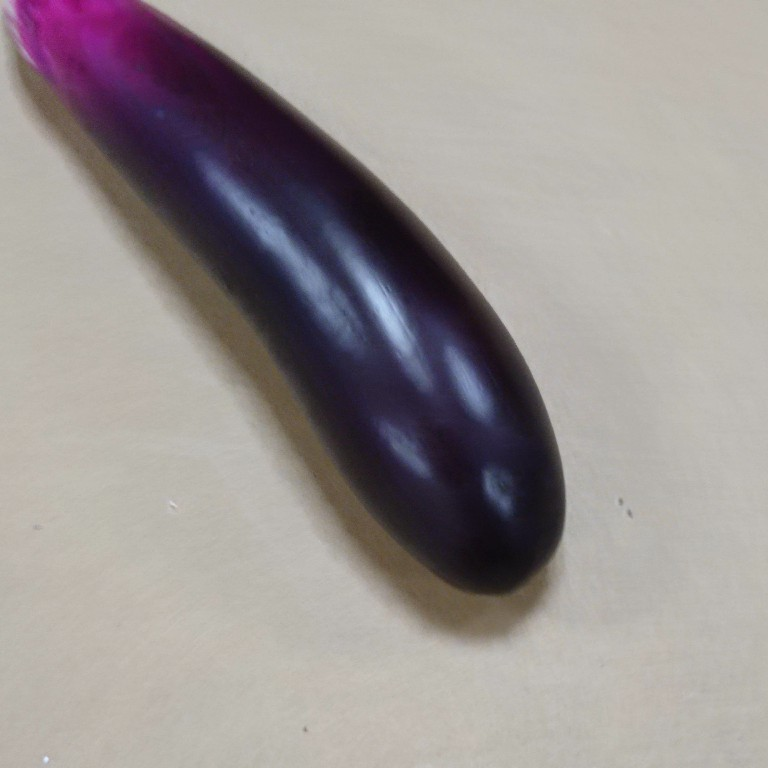fruit_eggplant: (1, 1, 573, 600)
